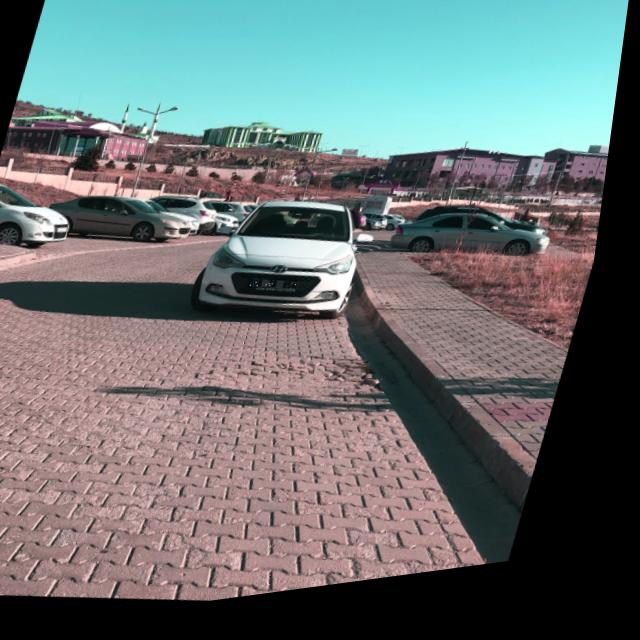license_plate: (255, 282, 308, 304)
